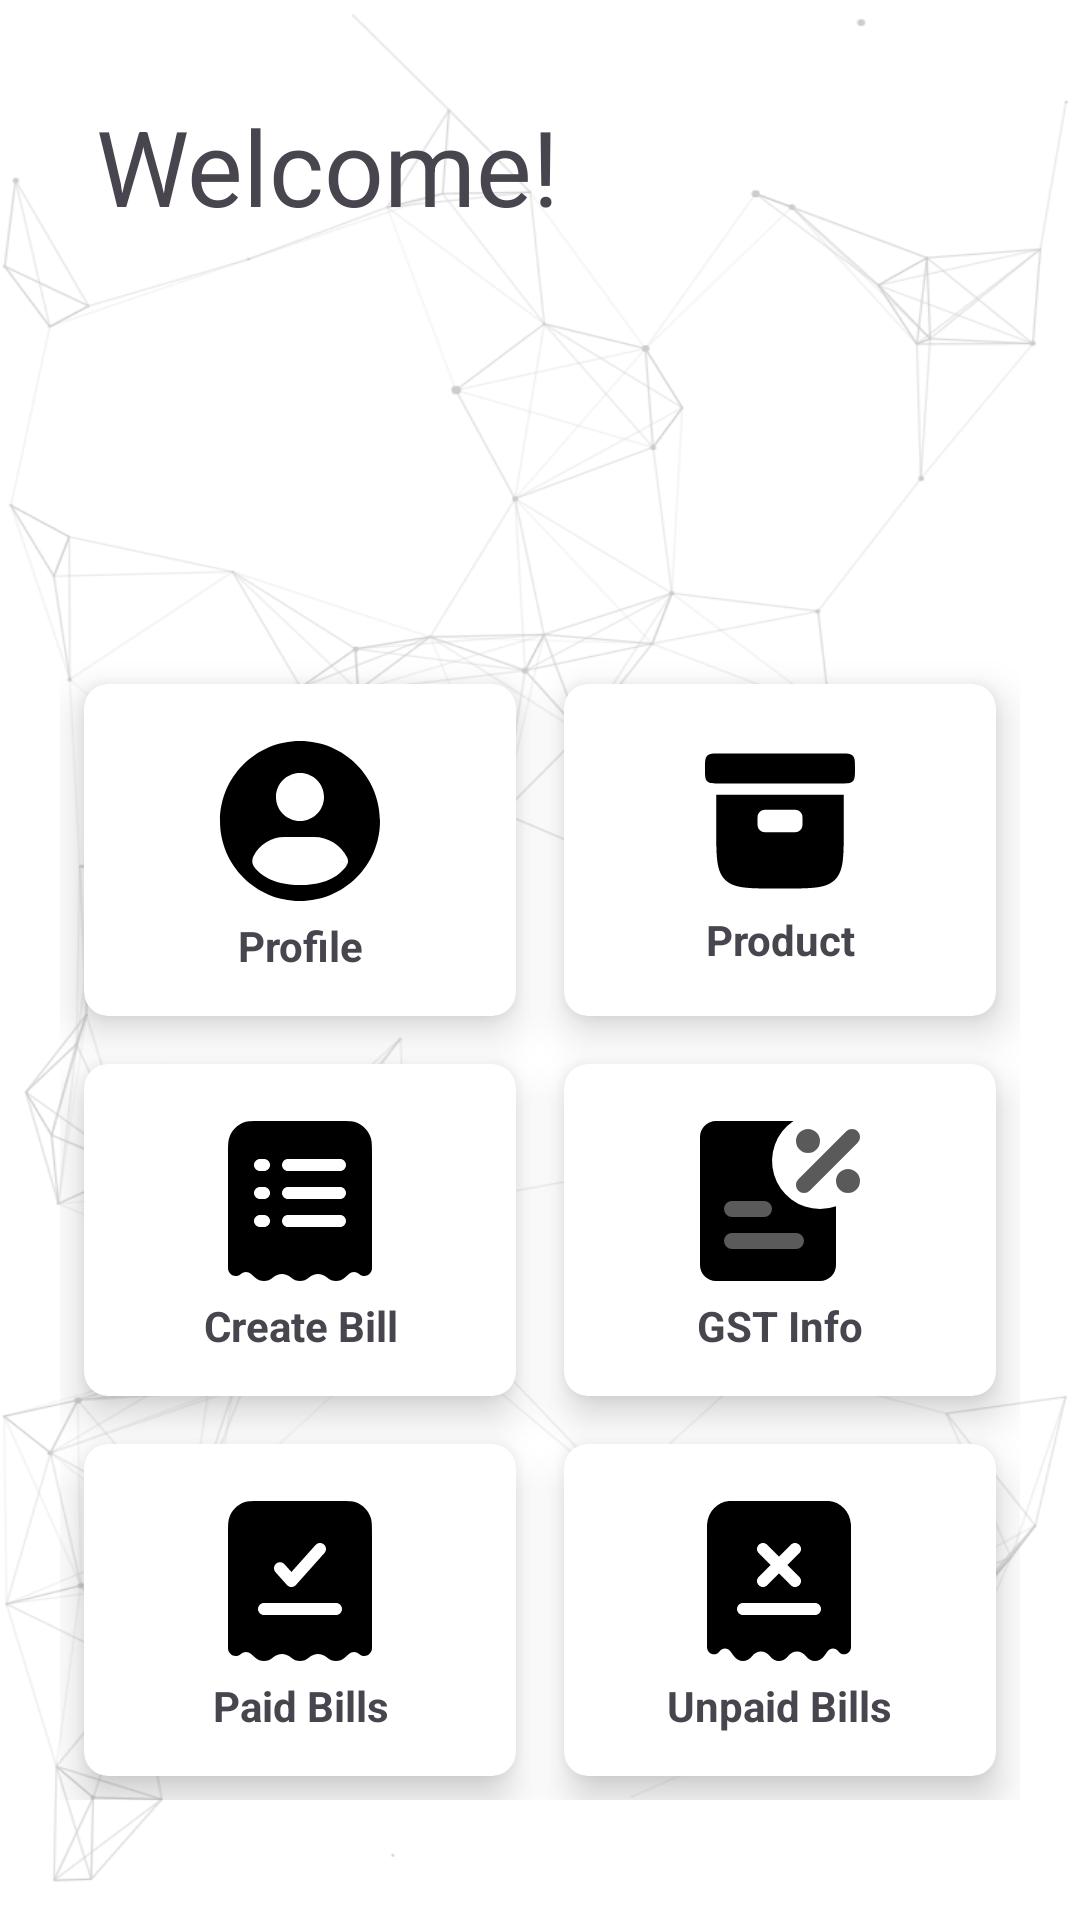

Named icons in this screenshot (1080px x 1920px) and their bounding boxes, (x1, y1, x2, y2):
tax home: (700, 1121, 860, 1281)
